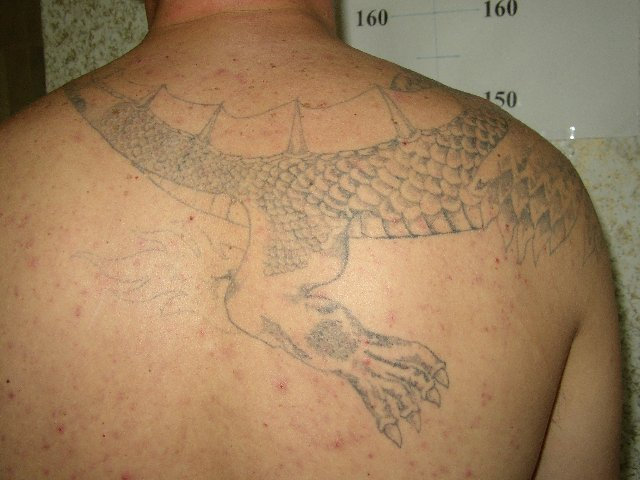tatu3_bukva: (55, 47, 617, 450)
